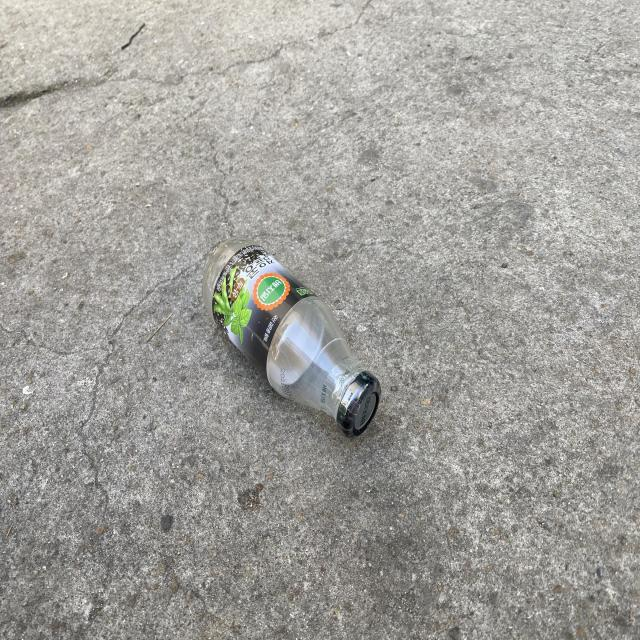glass: (202, 238, 380, 436)
